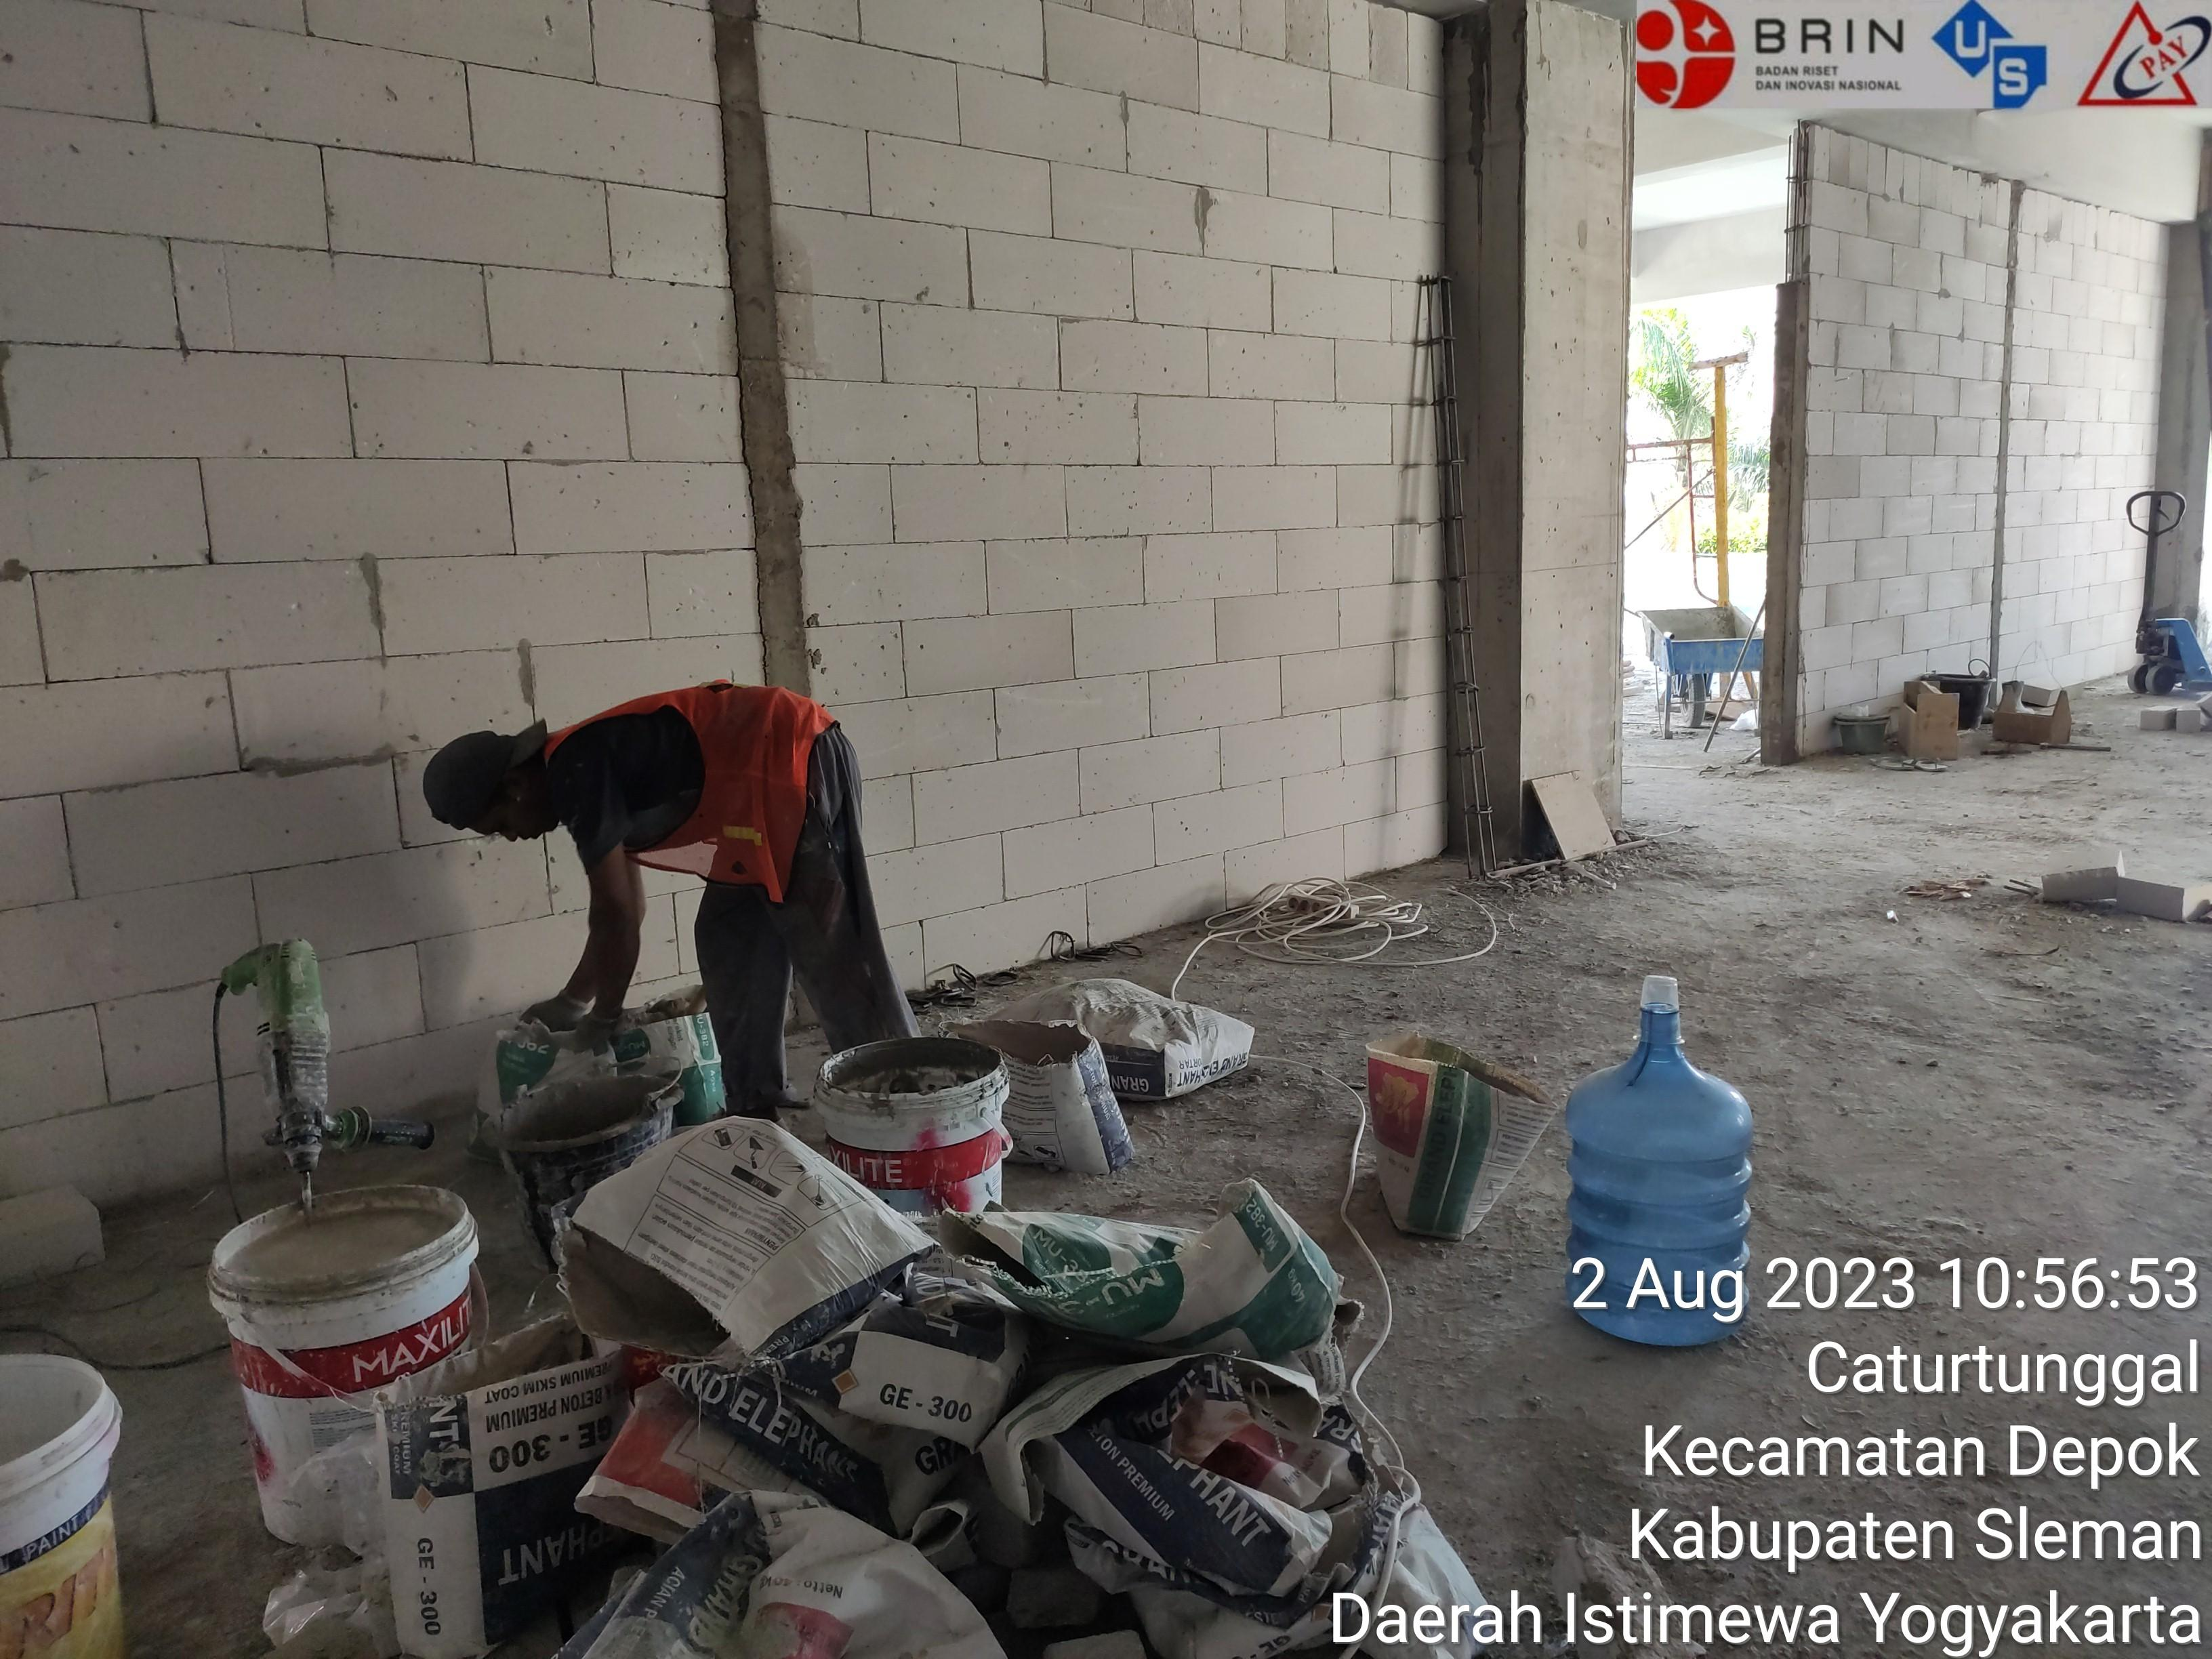no hat: (383, 723, 577, 861)
vest: (547, 655, 855, 896)
